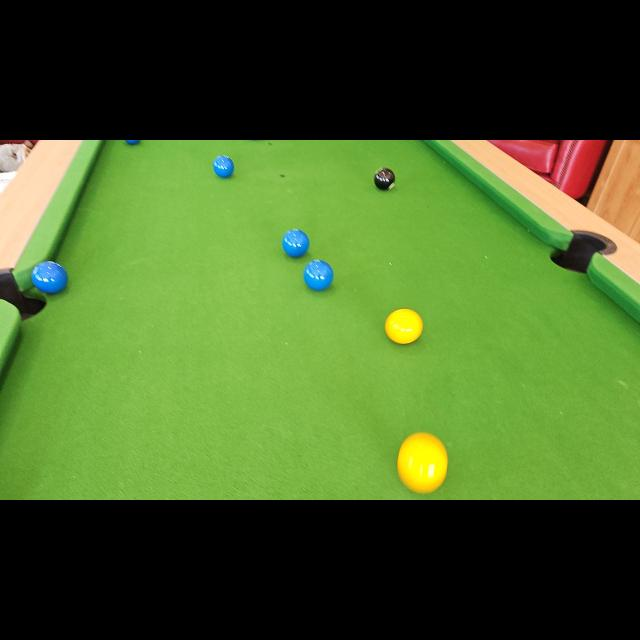Ball: (398, 432, 448, 492), (385, 308, 423, 344), (303, 258, 333, 290), (283, 228, 309, 258), (372, 168, 396, 190), (214, 154, 234, 178), (121, 140, 142, 146)
